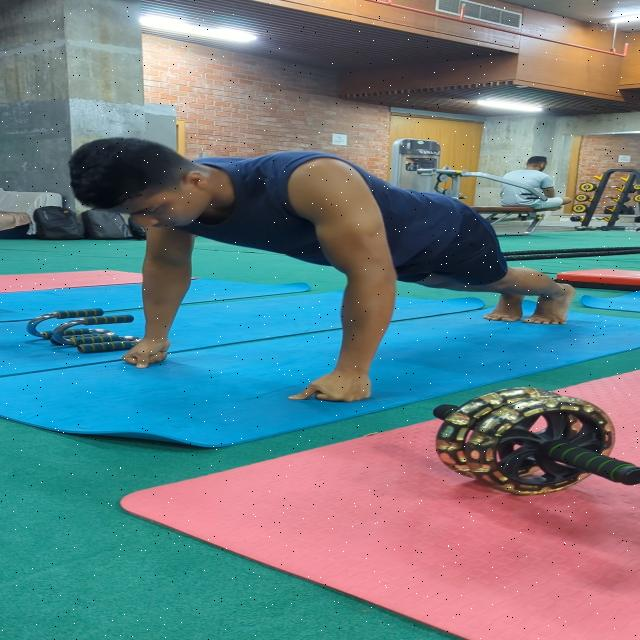Normal_PushUps: (65, 132, 575, 412)
